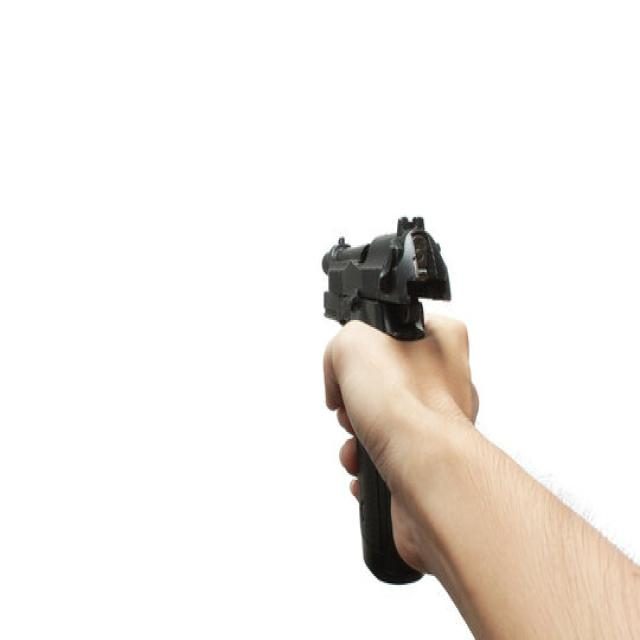HandGun: (314, 176, 451, 606)
